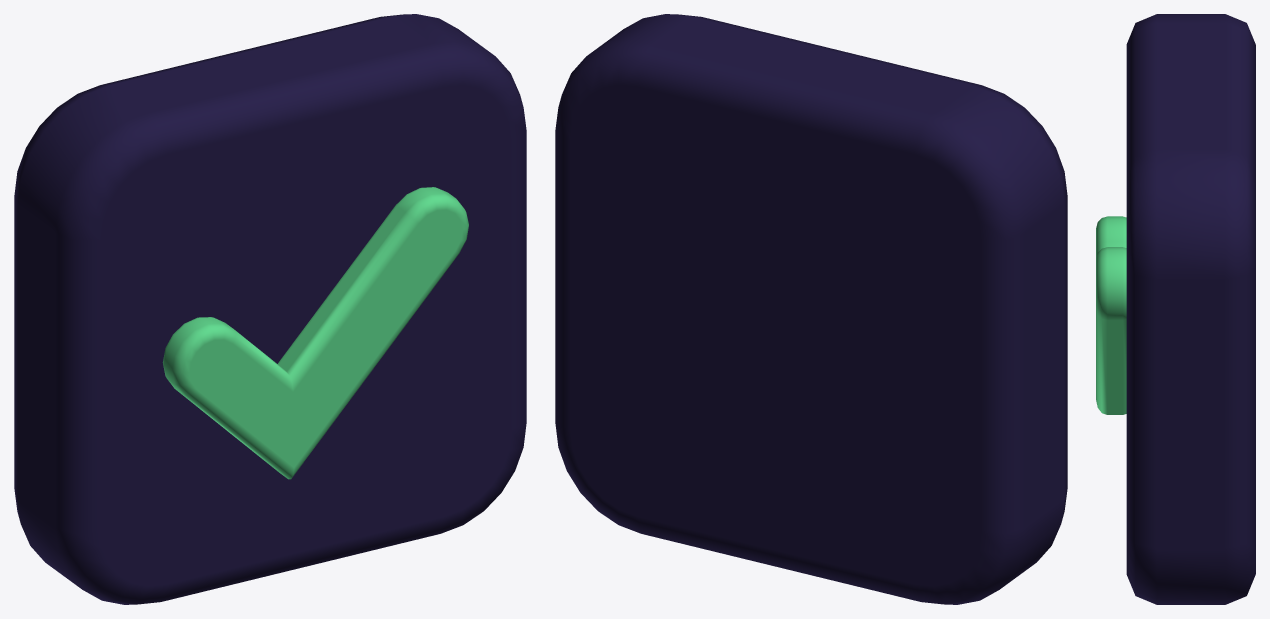
The model's file is ui_check.glb.
3 views of the same model, side by side, from view 1: azimuth 30°, elevation 25°; view 2: azimuth 150°, elevation 25°; view 3: azimuth 270°, elevation 25° (orthographic). The views are drawn at different scales.
Visible parts, largest first — view 1: ui_check; view 2: ui_check; view 3: ui_check.
Boxes of the visible parts, box(x1,y1,x2,y2) form: ui_check: box(14, 14, 526, 604); ui_check: box(555, 14, 1067, 604); ui_check: box(1096, 14, 1255, 604).
Bounding box in the file's own units: 1.3 × 1.3 × 0.42.
